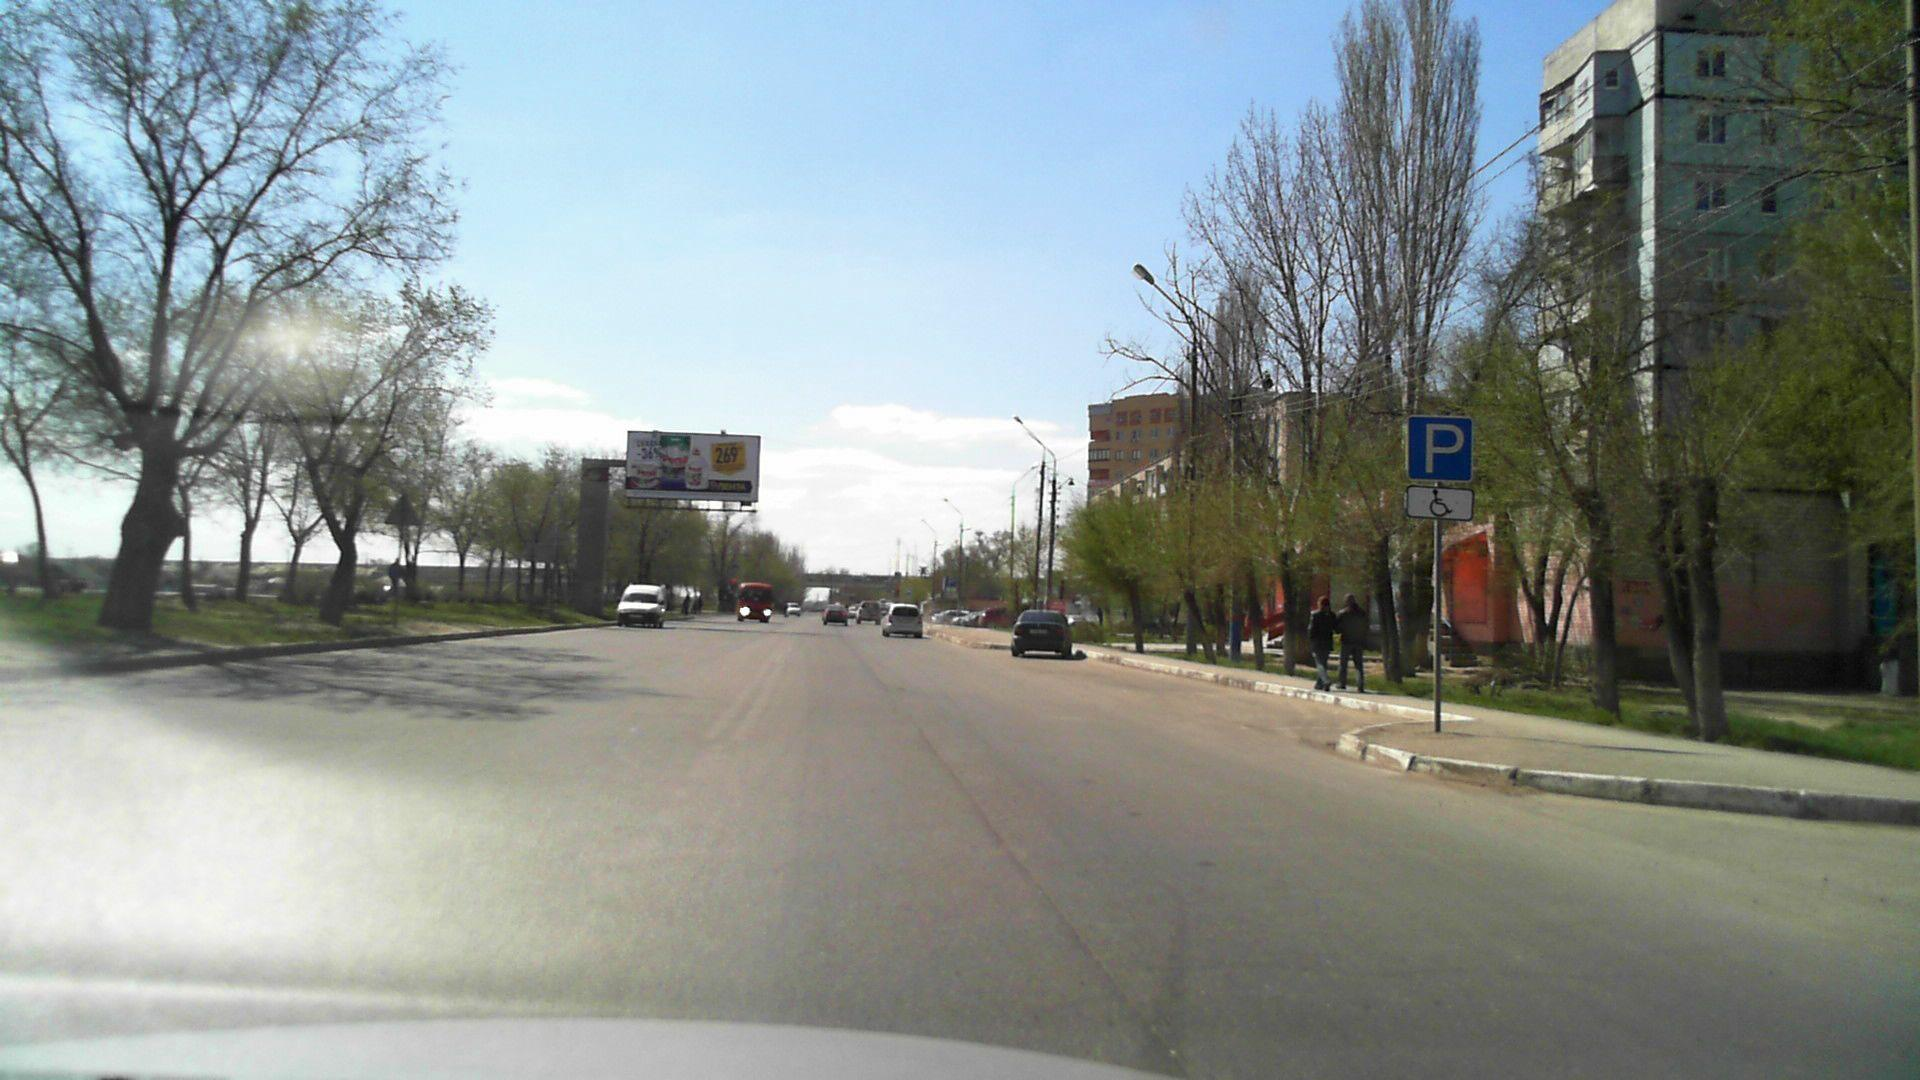6_4: (1406, 415, 1480, 484)
8_17: (1404, 485, 1474, 521)
